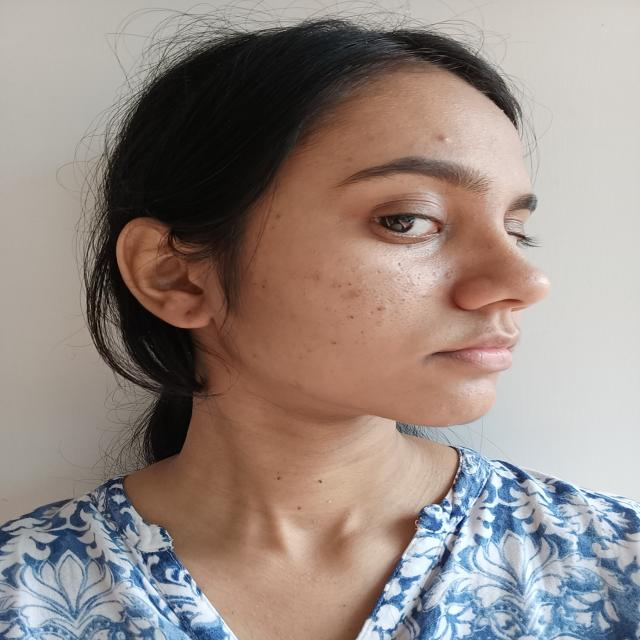Acne: (432, 134, 453, 145), (442, 269, 455, 280), (273, 210, 285, 220)
Englarged-Pores: (342, 272, 434, 327), (514, 264, 534, 285)
